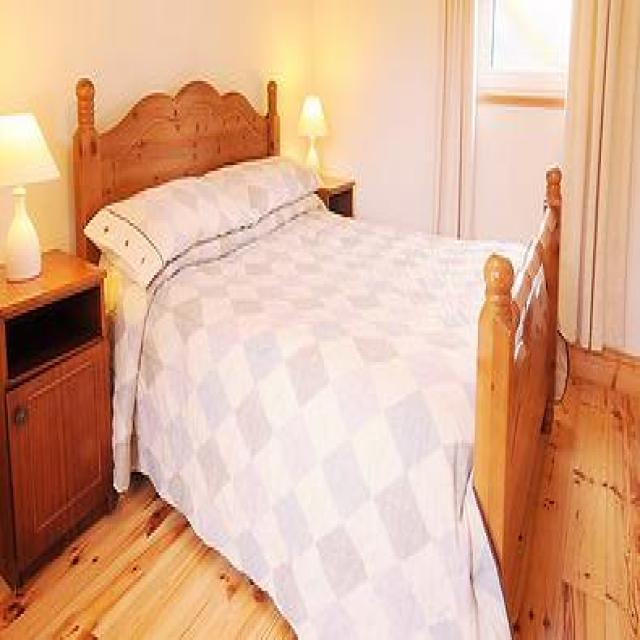bed: (72, 72, 562, 640)
